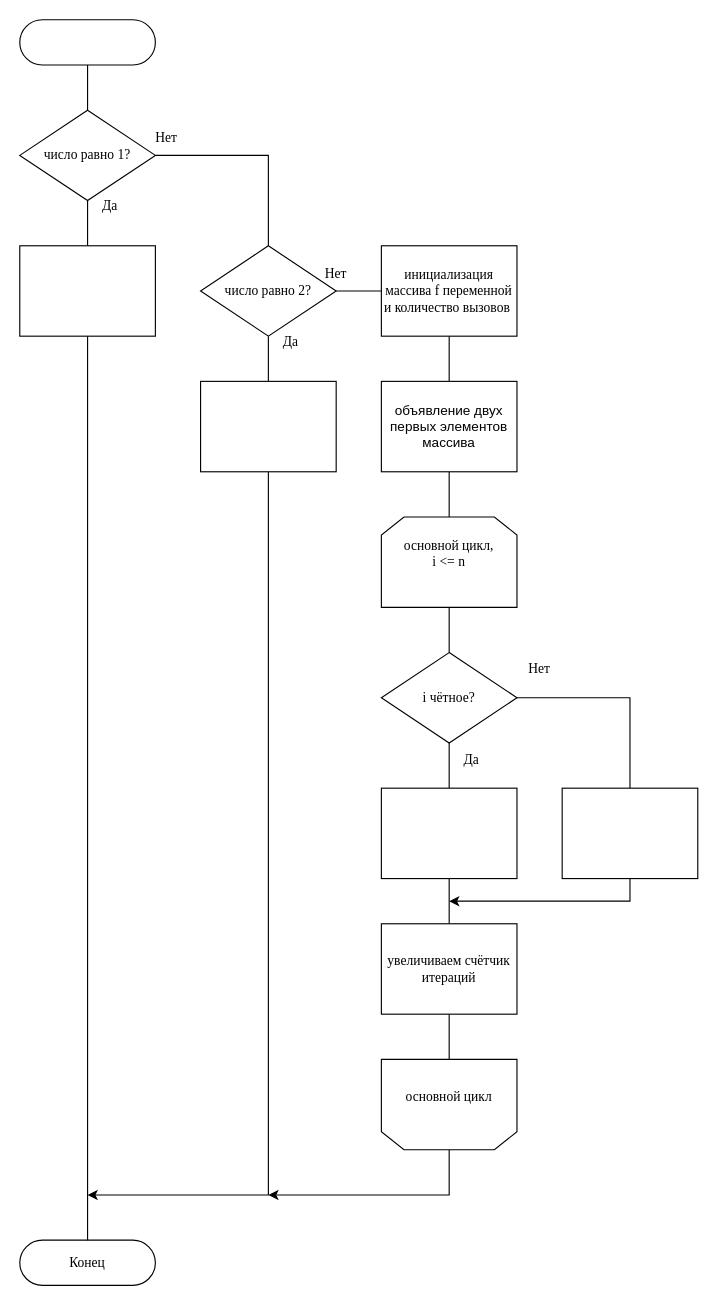
Image size: 718x1305. Some labels were removed from this diagram. The centre of each missing label's shape, as x and y in pixels:
добавление в массив f по индексу i значения [(5*i+f[i - 1]+f[i - 2])/7]: the point at 629,833
добавление в массив f по индексу i значения [(7 * i + f[i - 3]) / 9]: the point at 448,833
Начало: the point at 87,42
счётчик итераций = 0, возврат 1: the point at 87,290
счётчик итераций = 0, возврат 2: the point at 267,426
